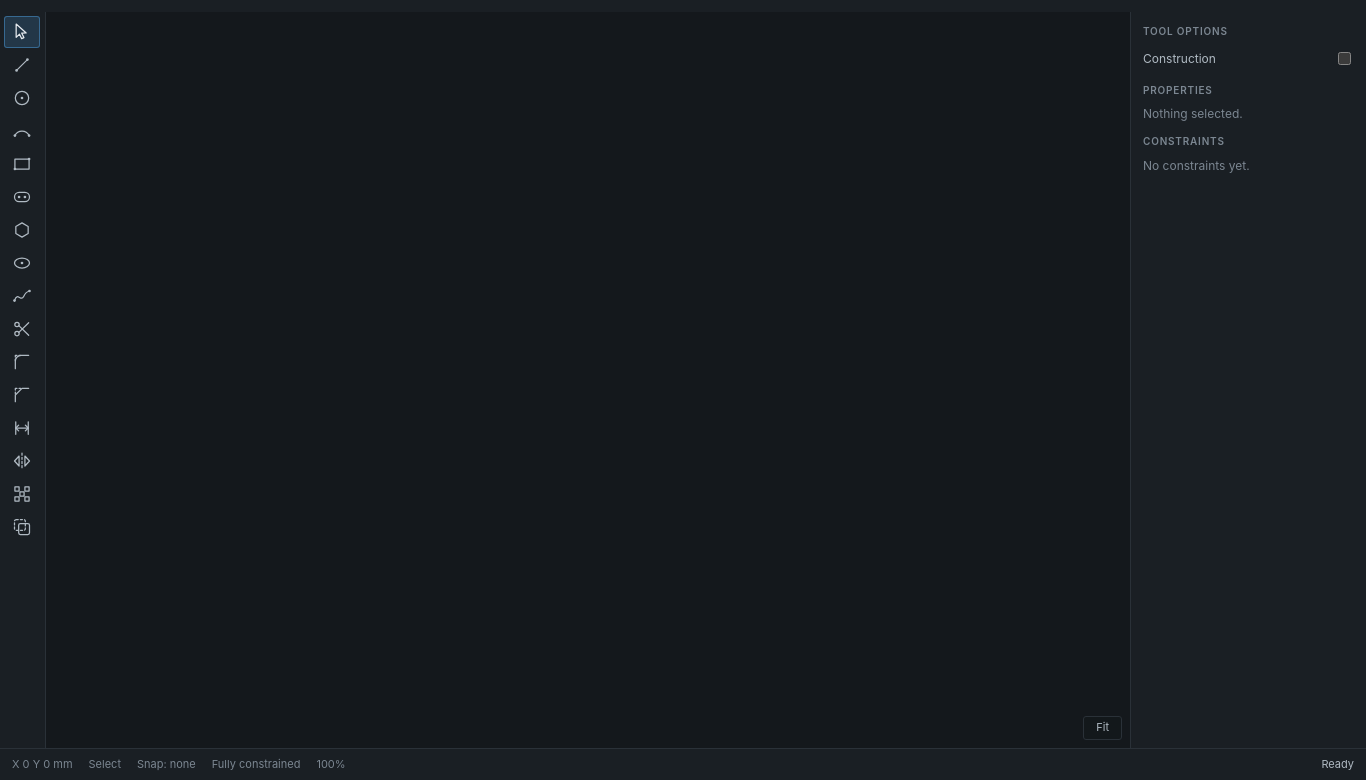
Test: constraints and dimensions › reports the degrees of freedom left in the sketch
This screenshot has width=1366, height=780.
Expected: the text "Fully constrained" is shown, [212, 756, 300, 772]
Click the button named "Line" at (22, 65), box [4, 49, 40, 81]
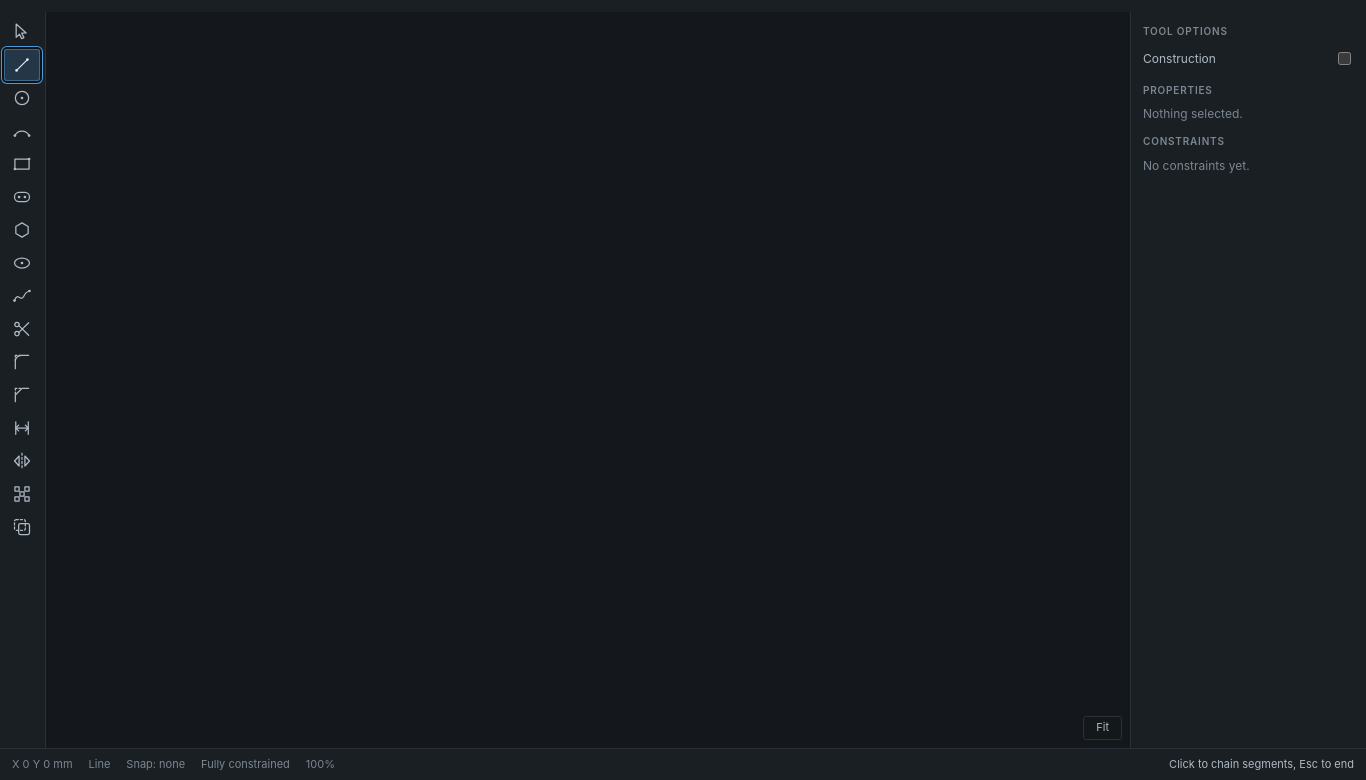
Press the mouse on the drawing with test id "sketch-canvas" at (588, 380), box [46, 12, 1130, 748]
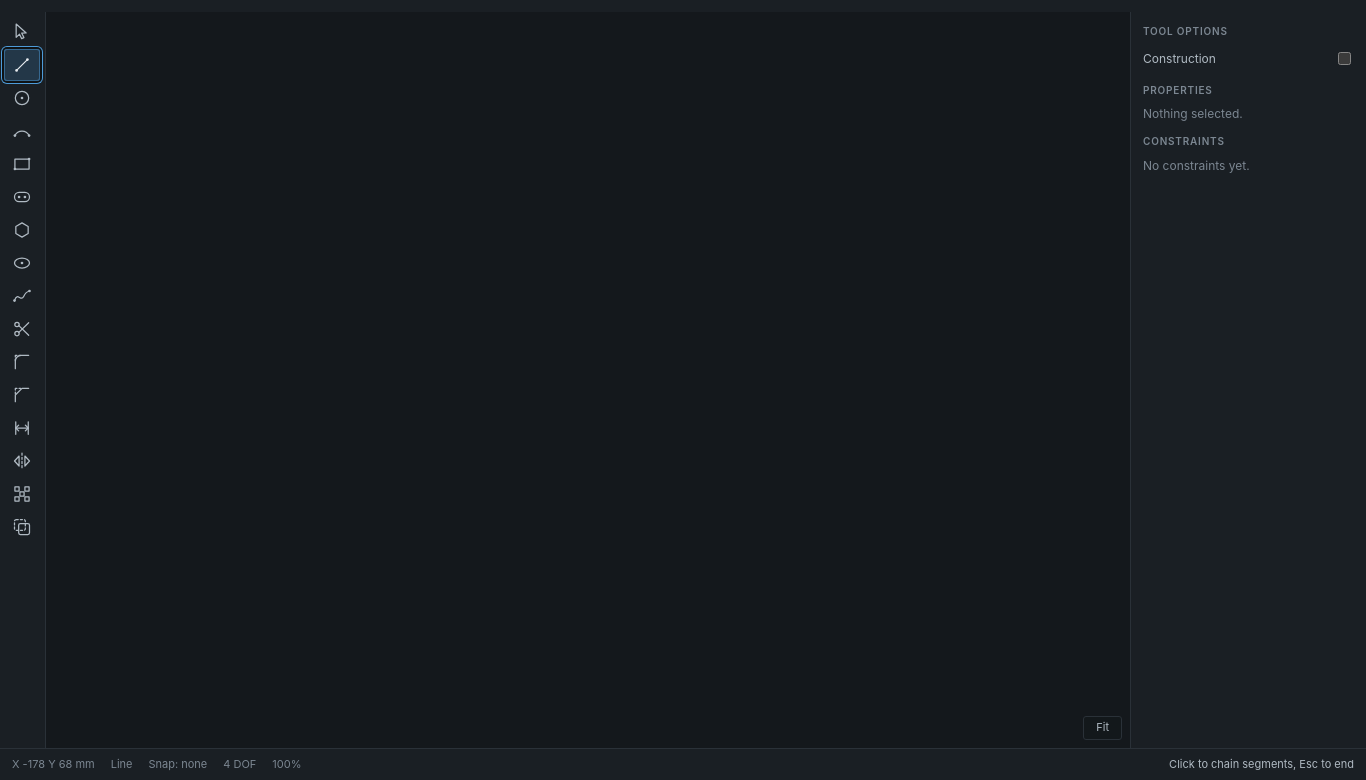
Expected: the text "4 DOF" is shown, [223, 756, 256, 772]
